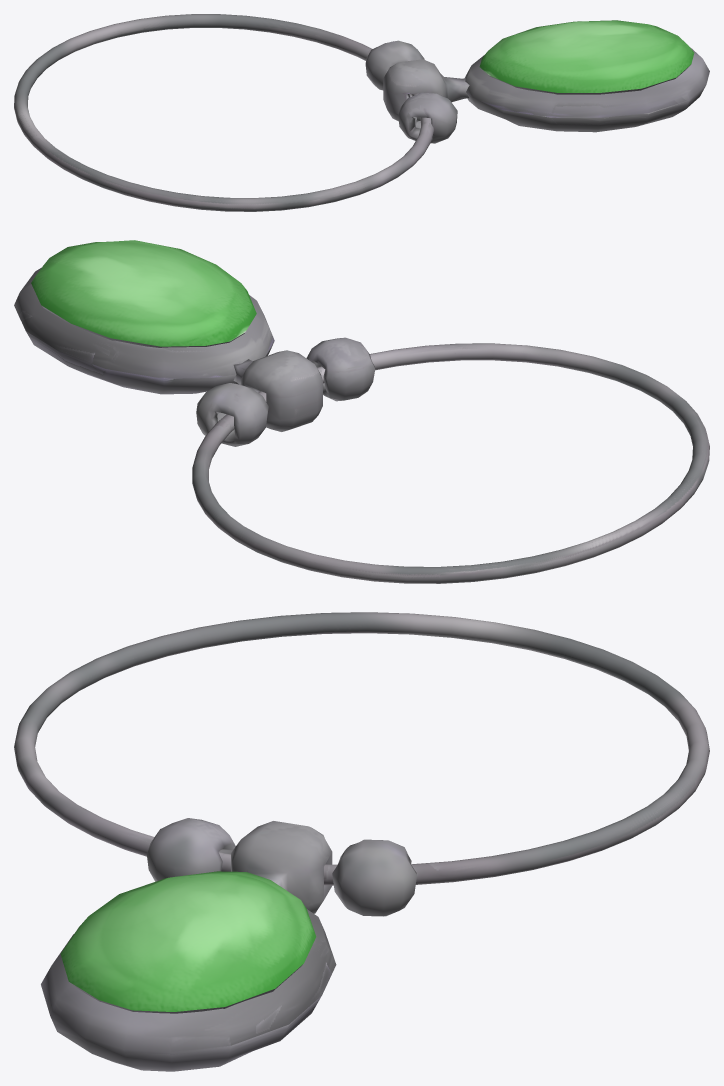
File: necklace.fbx
The picture shows the model from 3 angles, top to bottom: view 1: azimuth 30°, elevation 25°; view 2: azimuth 150°, elevation 25°; view 3: azimuth 270°, elevation 25°; orthographic projection. The views are drawn at different scales.
Visible parts, largest first — view 1: Necklace, Necklace.001; view 2: Necklace, Necklace.001; view 3: Necklace, Necklace.001.
Boxes of the visible parts, box(x1,y1,x2,y2) form: Necklace: box(14, 14, 709, 211); Necklace.001: box(479, 20, 694, 92); Necklace: box(14, 267, 709, 583); Necklace.001: box(31, 240, 256, 346); Necklace: box(14, 612, 709, 1071); Necklace.001: box(60, 871, 316, 1011).
Bounding box in the file's own units: 456 × 59.31 × 309.
